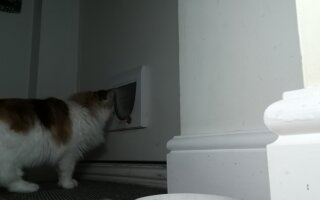clara: (2, 95, 126, 192)
